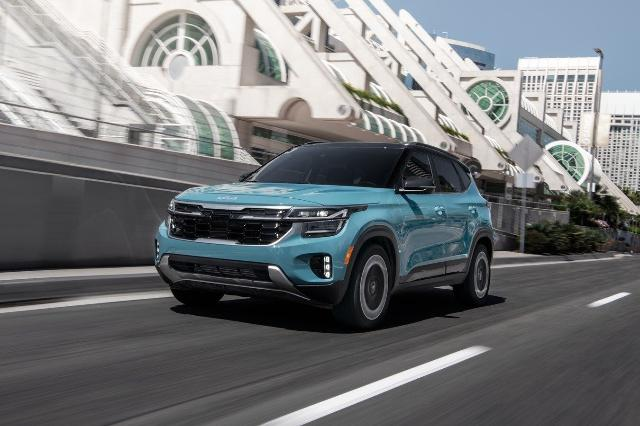kia: (153, 140, 494, 328)
